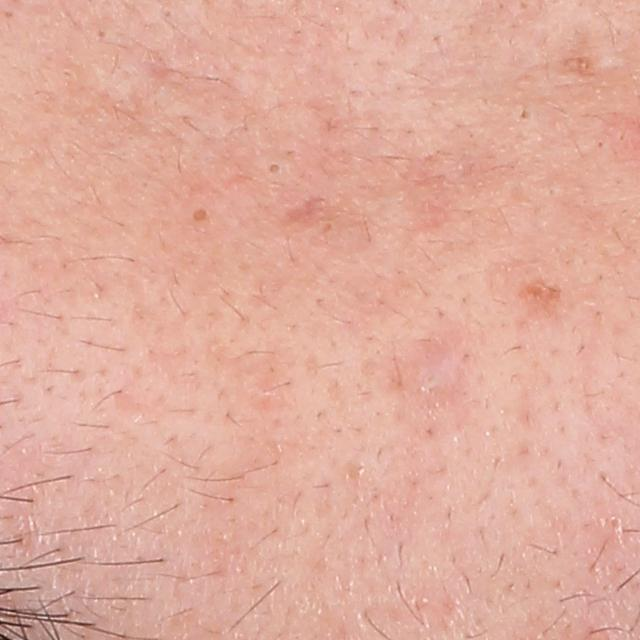atrophic_scar: (277, 193, 343, 228)
